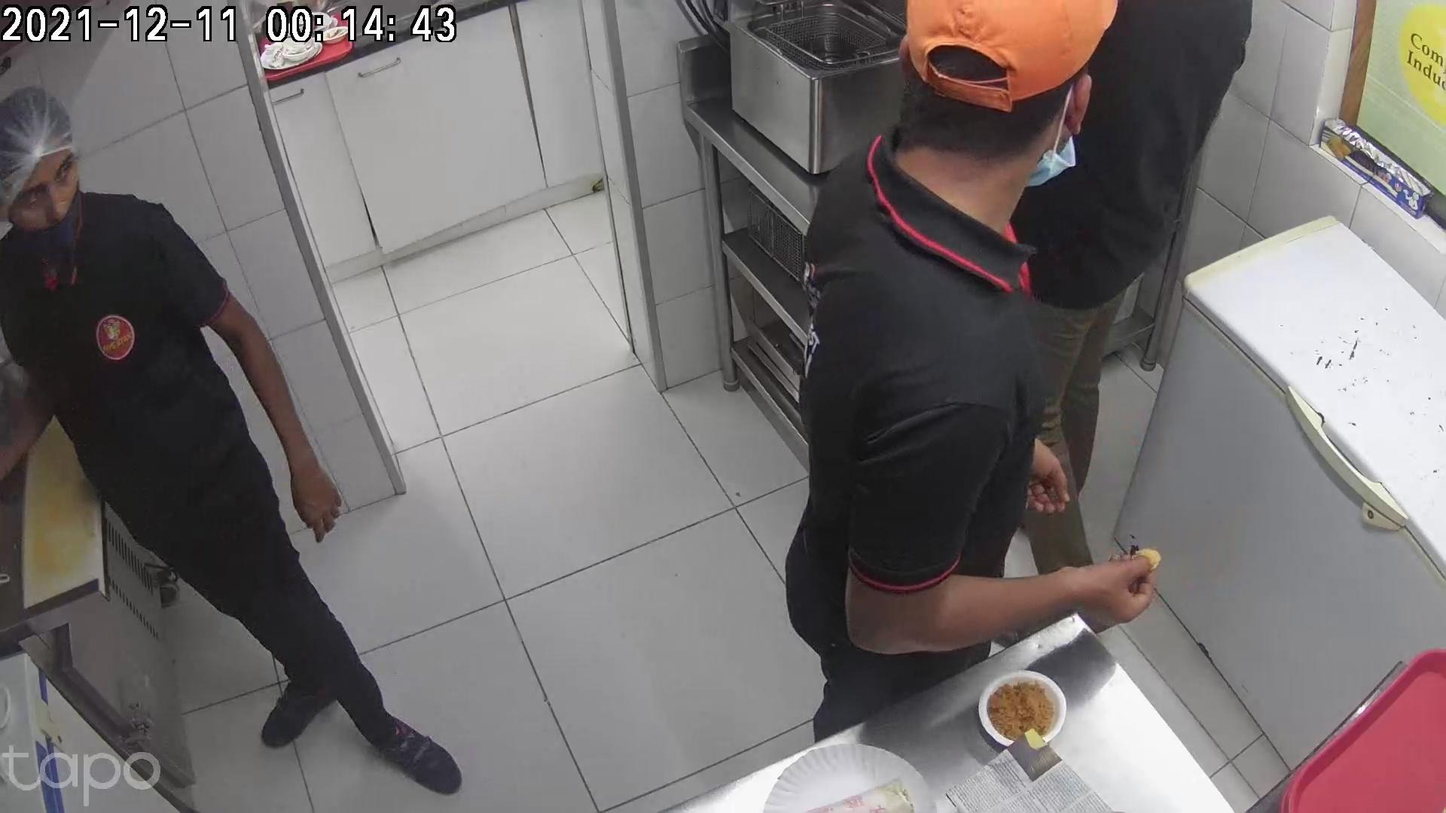gloves: (616, 531, 759, 719)
